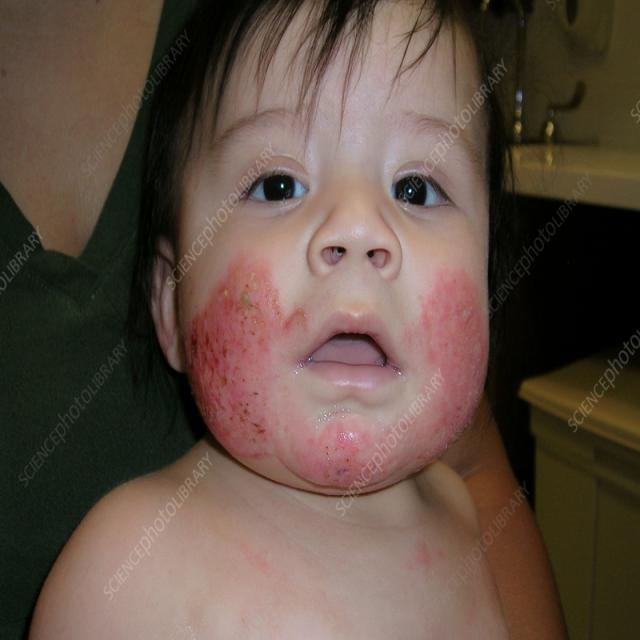eczema: (193, 299, 280, 449), (441, 287, 478, 426)
